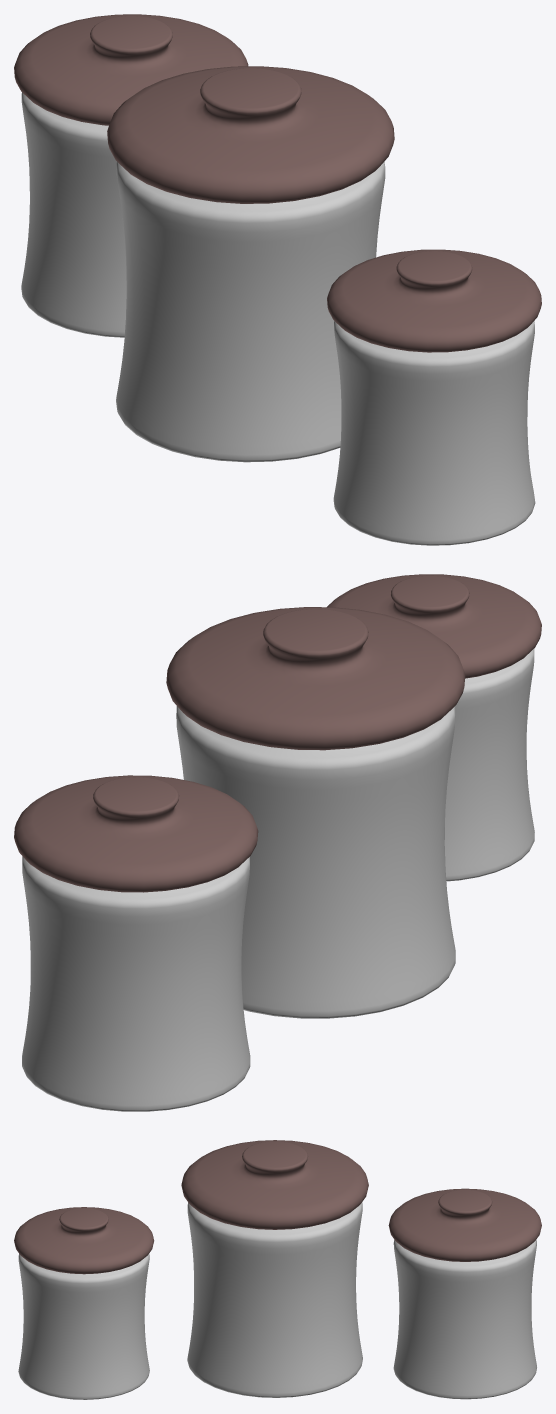
The model's file is especieros.fbx.
The picture shows the model from 3 angles, top to bottom: view 1: azimuth 30°, elevation 25°; view 2: azimuth 150°, elevation 25°; view 3: azimuth 270°, elevation 25°; orthographic projection. The views are drawn at different scales.
Visible parts, largest first — view 1: especieros; view 2: especieros; view 3: especieros.
Part boxes in pixels (x1,y1,x2,y2): especieros: (14,14,541,545); especieros: (14,574,541,1111); especieros: (14,1140,541,1399).
Bounding box in the file's own units: 23.62 × 28.11 × 65.1.
